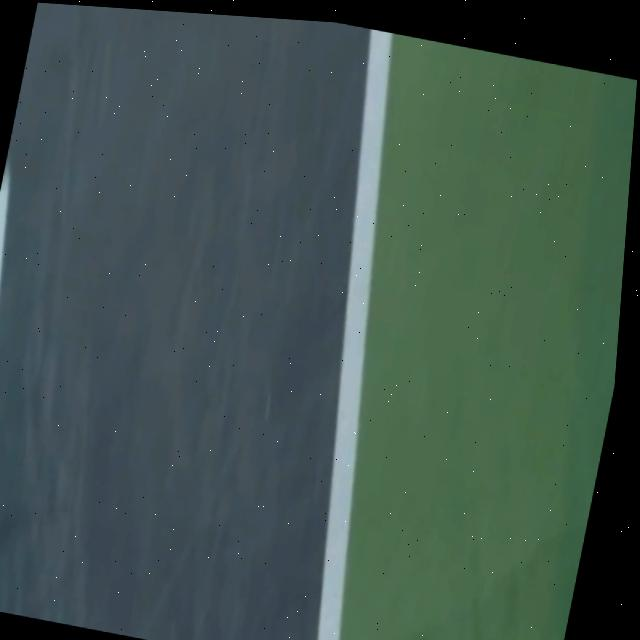right: (317, 28, 392, 640)
